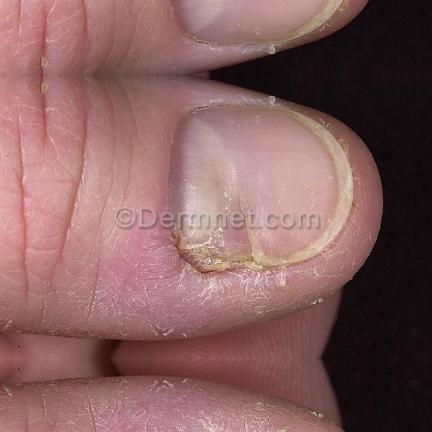Nail: (168, 102, 354, 271), (172, 0, 343, 46)
